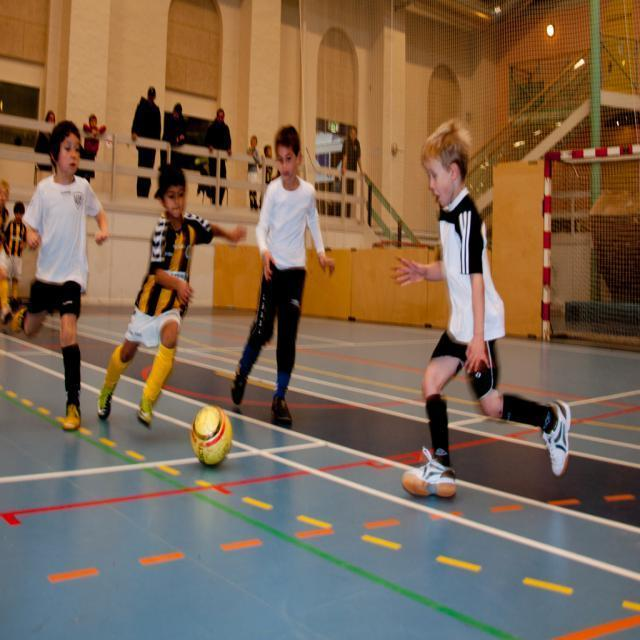football: (178, 397, 243, 470)
